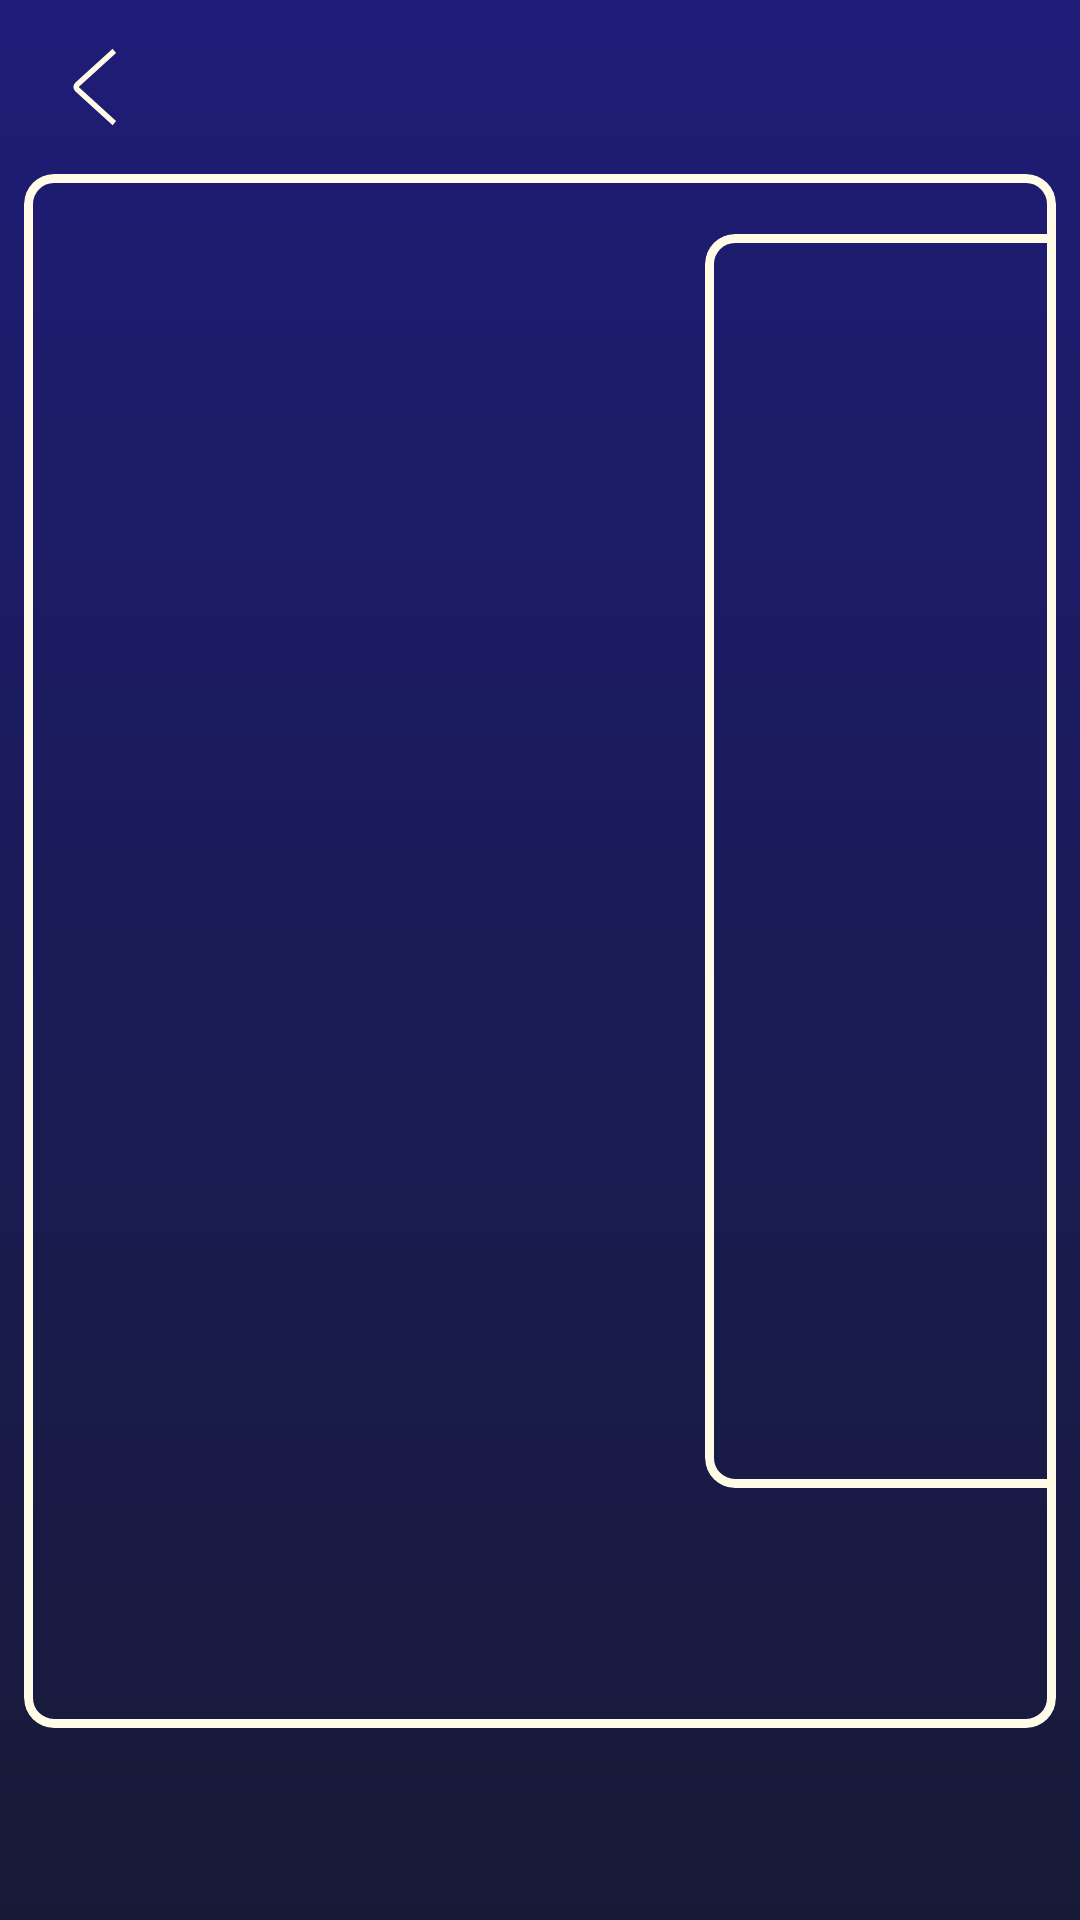

Icon click points for this 1080px×1920px phone screenshot, format (x,y):
back: (94,87)
